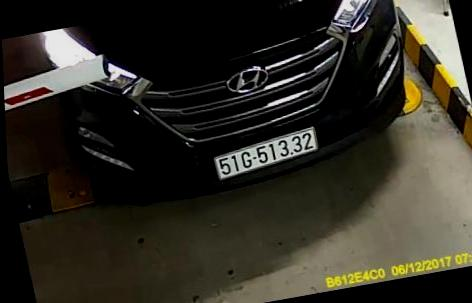License_Plate: (203, 122, 328, 186)
